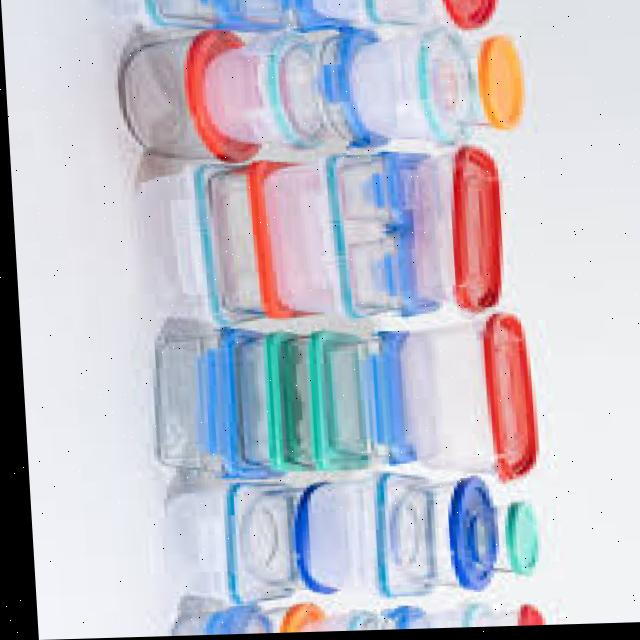disposable: (381, 309, 548, 494), (390, 146, 516, 321)
